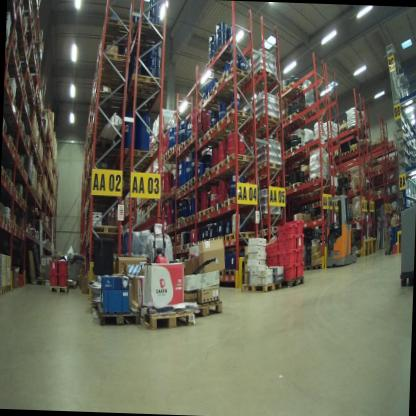forklift: (320, 166, 363, 271)
pallet: (213, 77, 236, 203), (142, 304, 196, 330), (97, 306, 140, 327), (98, 52, 129, 76), (97, 91, 125, 114), (131, 75, 160, 97), (250, 66, 275, 90), (223, 66, 248, 89), (223, 108, 250, 129), (242, 279, 282, 293), (255, 109, 279, 132), (93, 138, 121, 157), (257, 159, 281, 180), (197, 300, 222, 320), (124, 149, 154, 165), (87, 227, 119, 241), (224, 154, 252, 170), (282, 274, 304, 289), (285, 113, 305, 129), (225, 229, 257, 239), (287, 143, 306, 159), (286, 80, 302, 98), (288, 183, 309, 195), (197, 100, 217, 111), (50, 285, 69, 296), (205, 92, 222, 104), (203, 127, 218, 140), (213, 116, 224, 131), (214, 159, 224, 173), (225, 266, 237, 277), (212, 200, 222, 213), (205, 165, 214, 176), (312, 262, 322, 271), (0, 284, 8, 295), (197, 133, 205, 144), (196, 173, 204, 182), (195, 208, 203, 217), (304, 263, 312, 271), (204, 210, 212, 216), (6, 287, 12, 293)
small_load_carrier: (276, 233, 298, 252), (277, 264, 298, 283), (279, 249, 297, 268), (290, 218, 307, 237), (276, 223, 296, 238), (57, 256, 71, 275), (265, 241, 281, 256), (264, 255, 281, 269), (292, 233, 306, 250), (295, 262, 307, 279), (49, 257, 60, 275), (57, 274, 69, 289), (297, 249, 307, 265), (49, 276, 60, 284)
